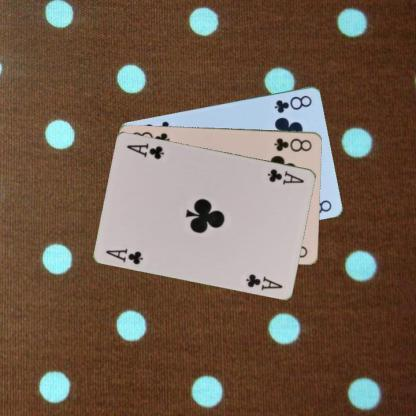8c: (272, 92, 313, 114), (272, 135, 313, 153)
Ac: (103, 245, 145, 266), (264, 166, 306, 186)
